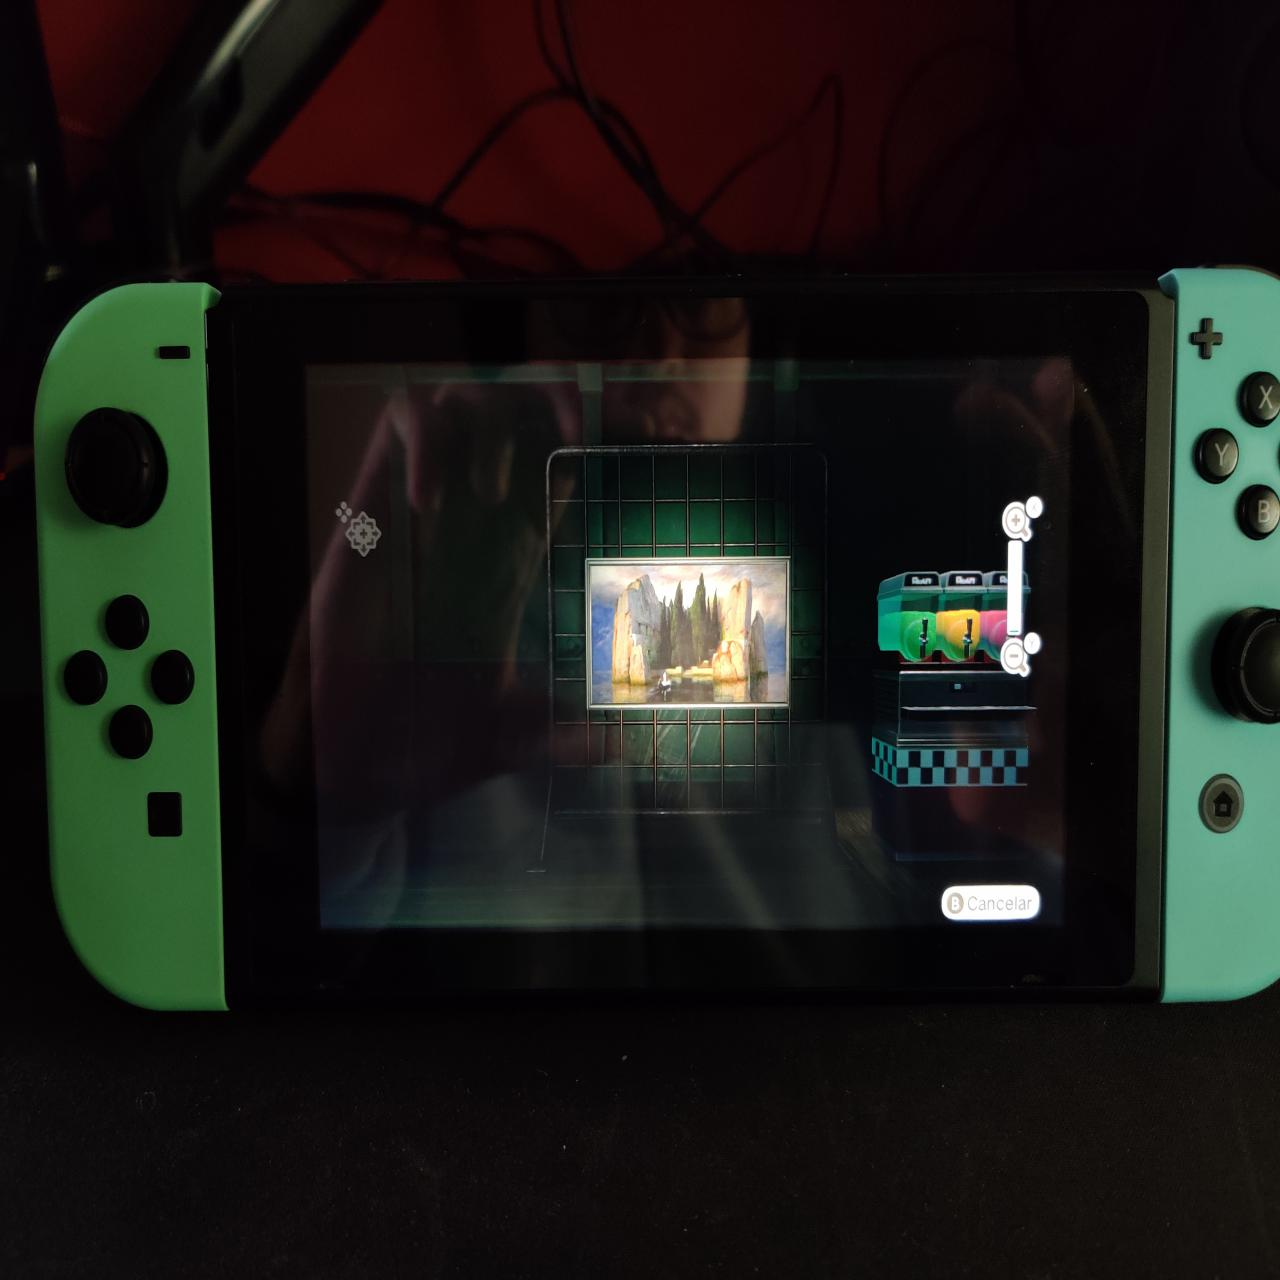IsleOfDead: (588, 564, 789, 704)
